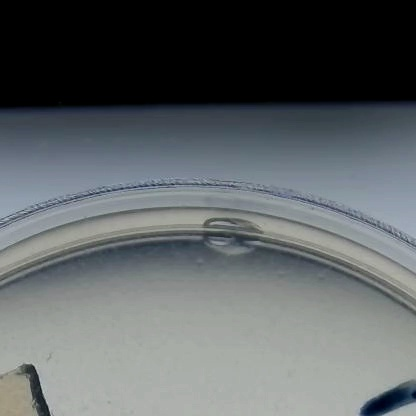worm: (41, 350, 62, 373), (52, 408, 62, 416)
